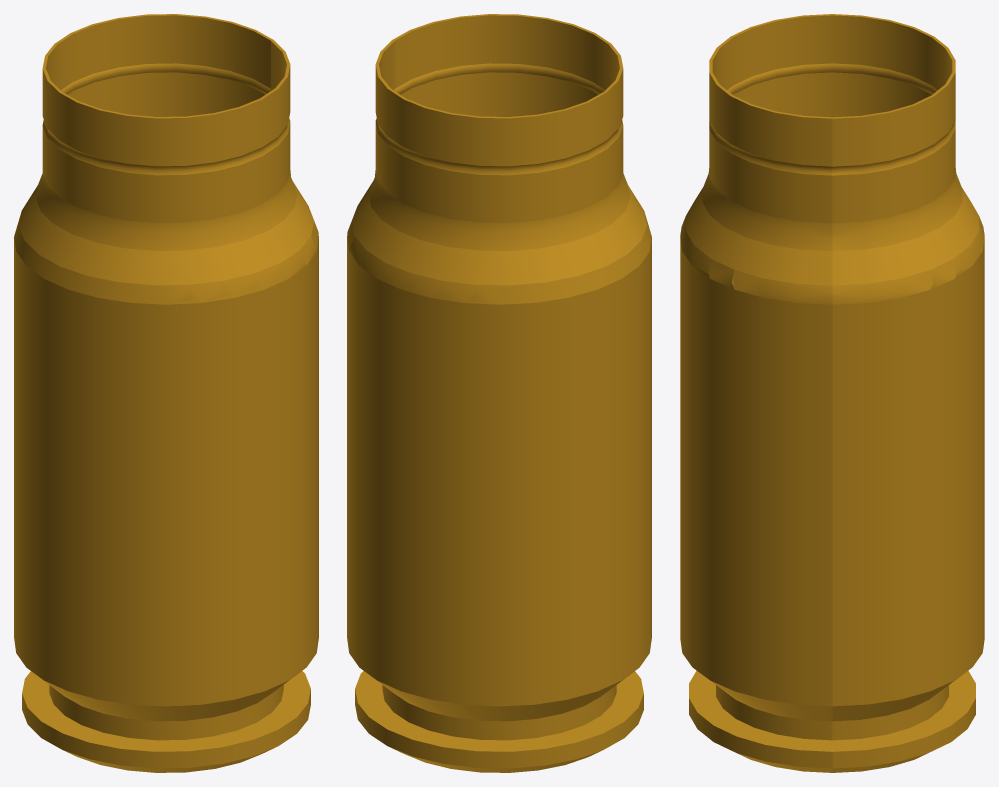
The picture shows the model from 3 angles, left to right: view 1: azimuth 30°, elevation 25°; view 2: azimuth 150°, elevation 25°; view 3: azimuth 270°, elevation 25°; orthographic projection.
Parts seen in each view (by area): view 1: o4_IndexedFaceSet_o4_IndexedFaceSet.010; view 2: o4_IndexedFaceSet_o4_IndexedFaceSet.010; view 3: o4_IndexedFaceSet_o4_IndexedFaceSet.010.
Boxes of the visible parts, x1,y1,x2,y2 form: o4_IndexedFaceSet_o4_IndexedFaceSet.010: [14, 14, 318, 772]; o4_IndexedFaceSet_o4_IndexedFaceSet.010: [347, 14, 651, 772]; o4_IndexedFaceSet_o4_IndexedFaceSet.010: [680, 14, 984, 772].
Bounding box in the file's own units: 13.74 × 32.7 × 13.77.
